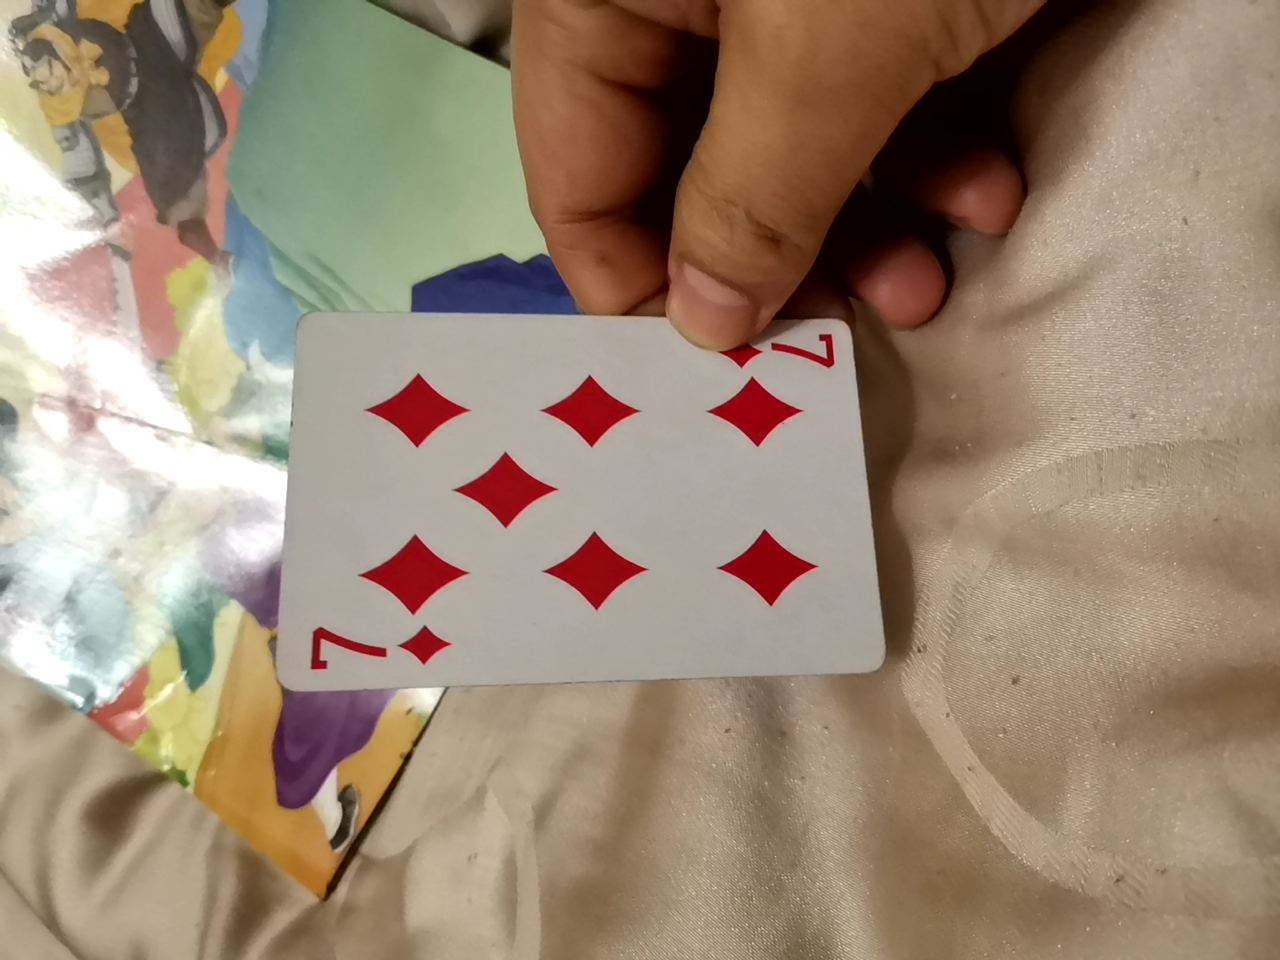fk 7: (310, 319, 925, 714)
